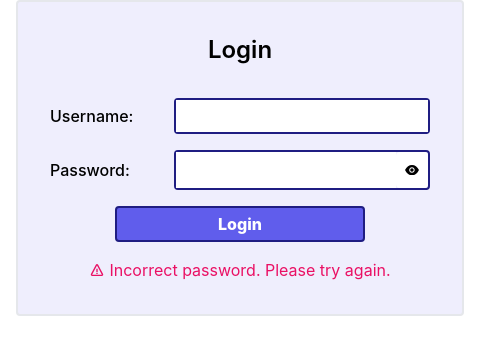
Scenario: Login › should allow user to log in with the right credential
This screenshot has width=481, height=357.
Type "sarahedo" into the field with test id "username" at point(302, 116), box [176,100,428,132]
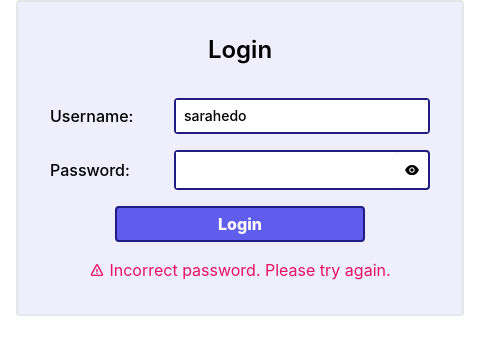
Type "password123" into the password field with test id "password" at point(286, 170), box [176,152,396,188]
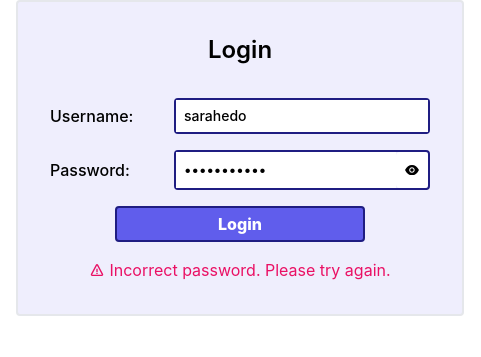
Click the button "login" at point(240, 224), box [115,206,365,242]
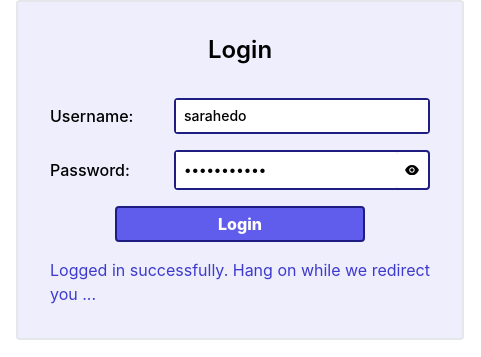
Check: the text "Logged in successfully. Hang on while we redirect you ..." is shown, box [50,258,430,306]
